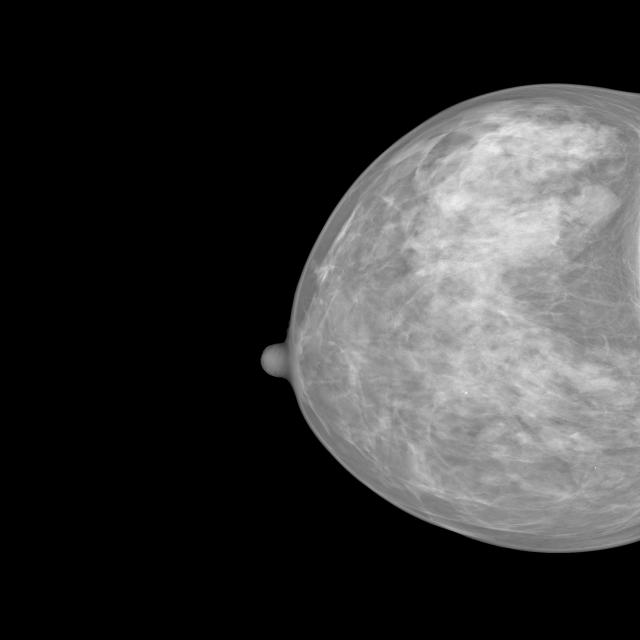Mass_1: (553, 167, 640, 243)
